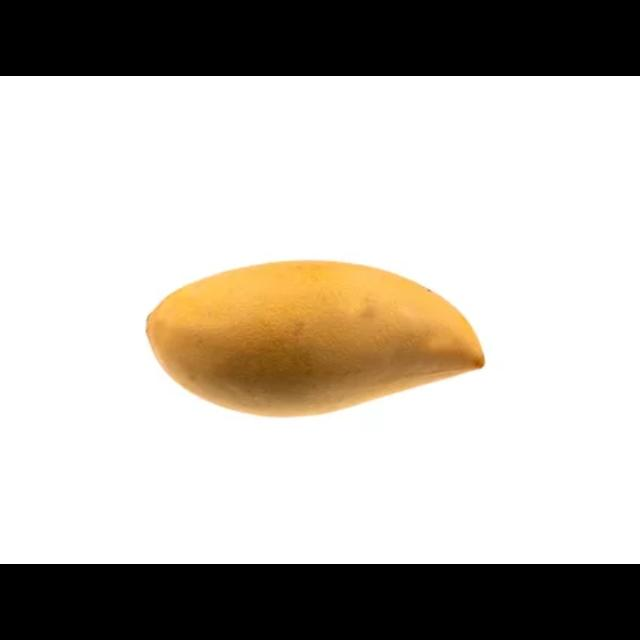mango: (142, 258, 484, 419)
